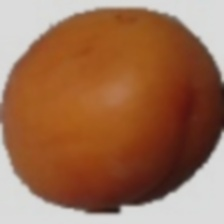apricot: (20, 2, 174, 194)
